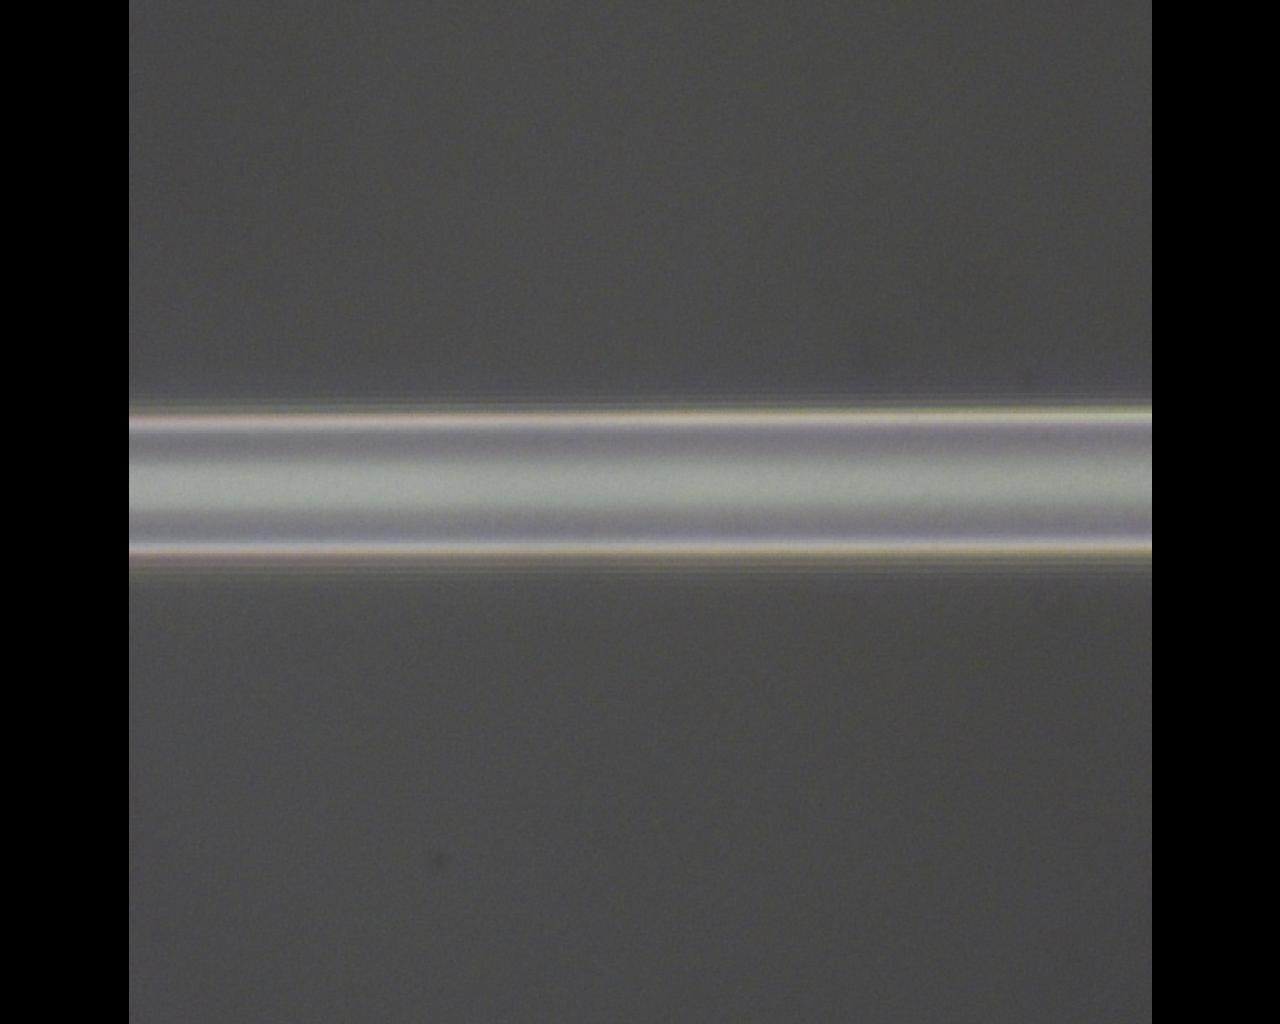fiber: (0, 46, 1280, 964)
